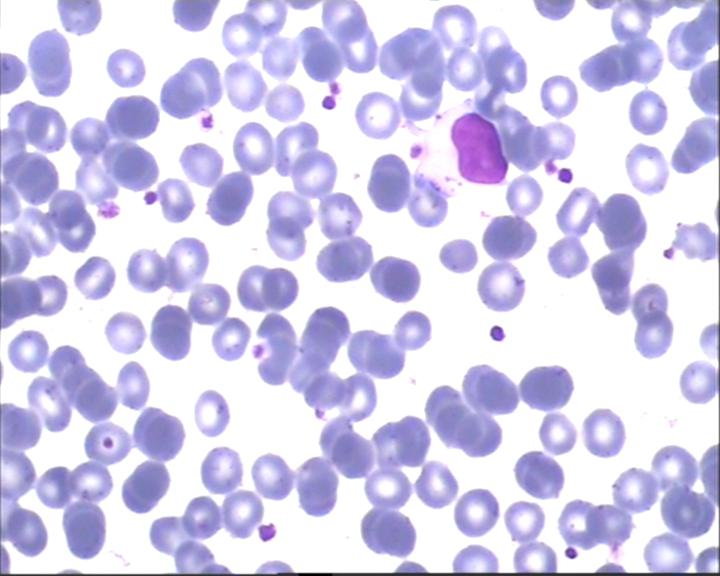mono: (412, 100, 513, 200)
